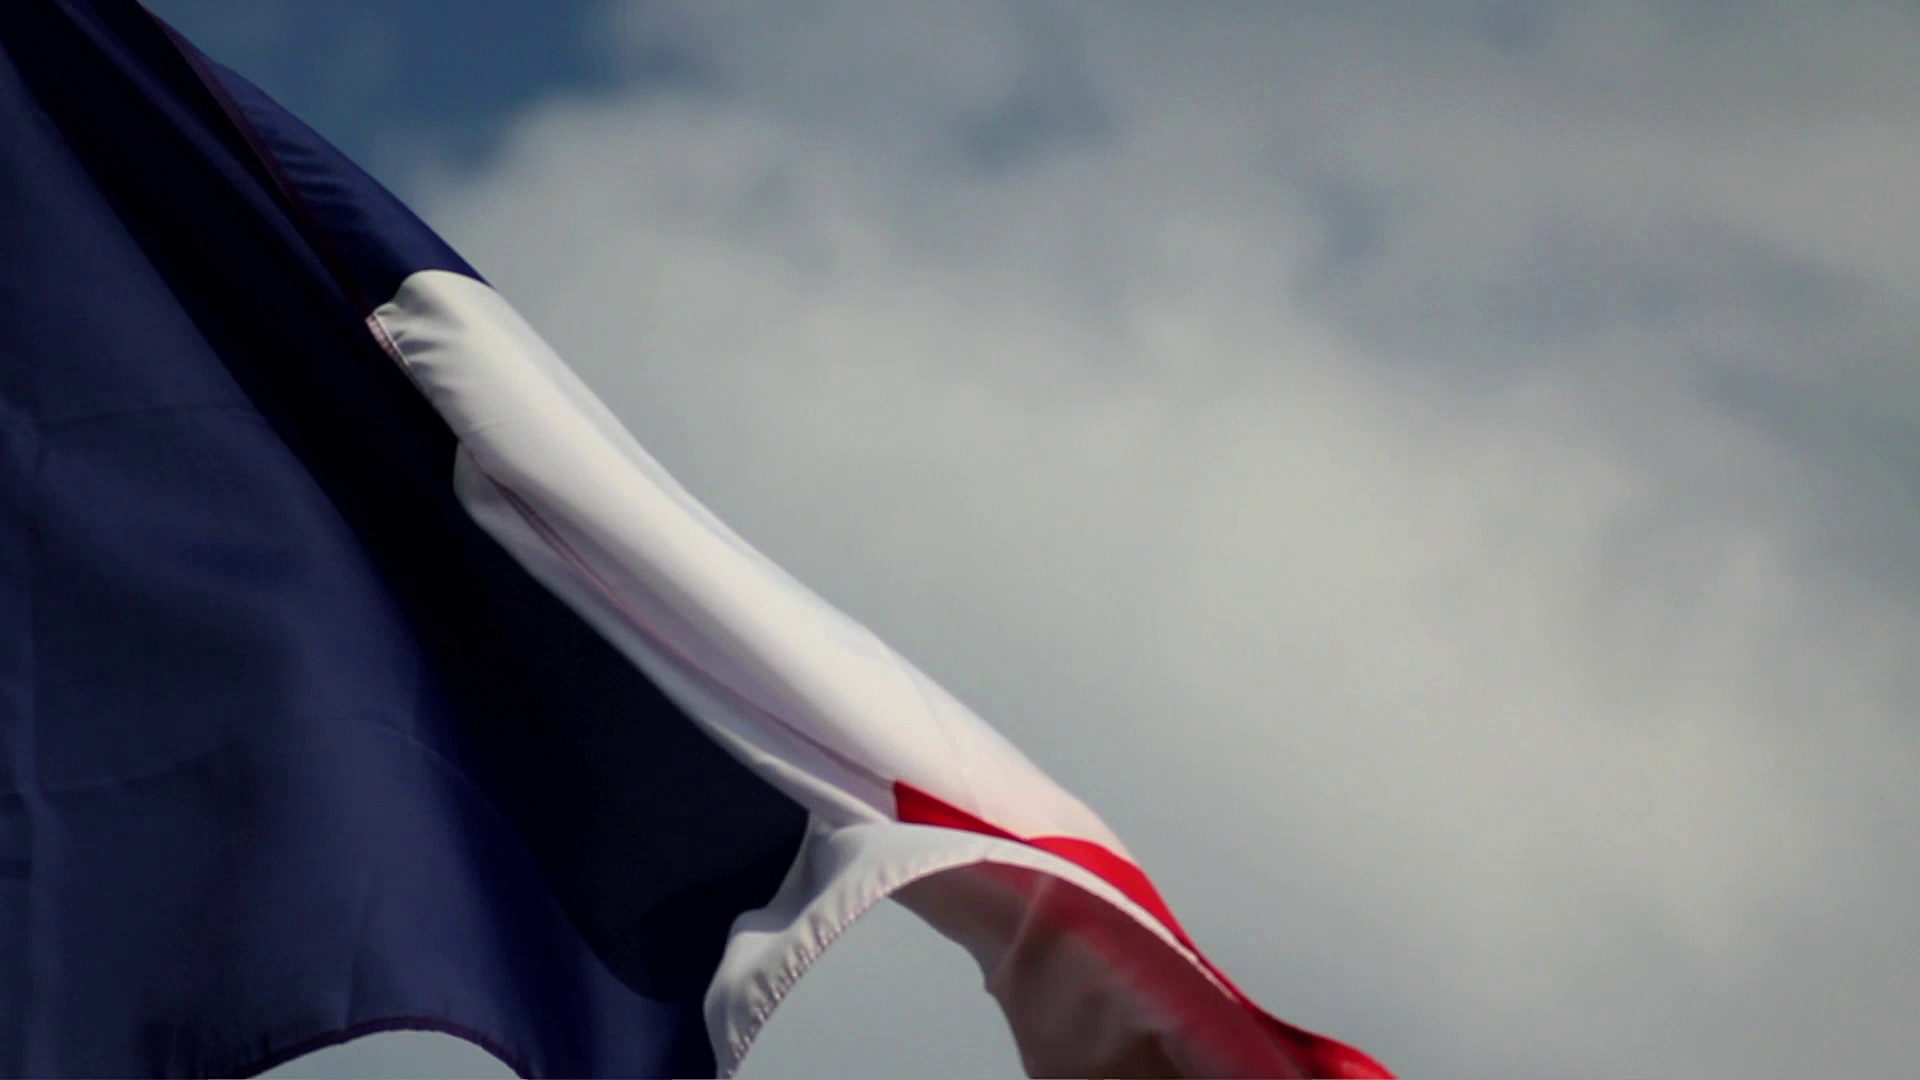French Flag: (1, 1, 1391, 1080)
